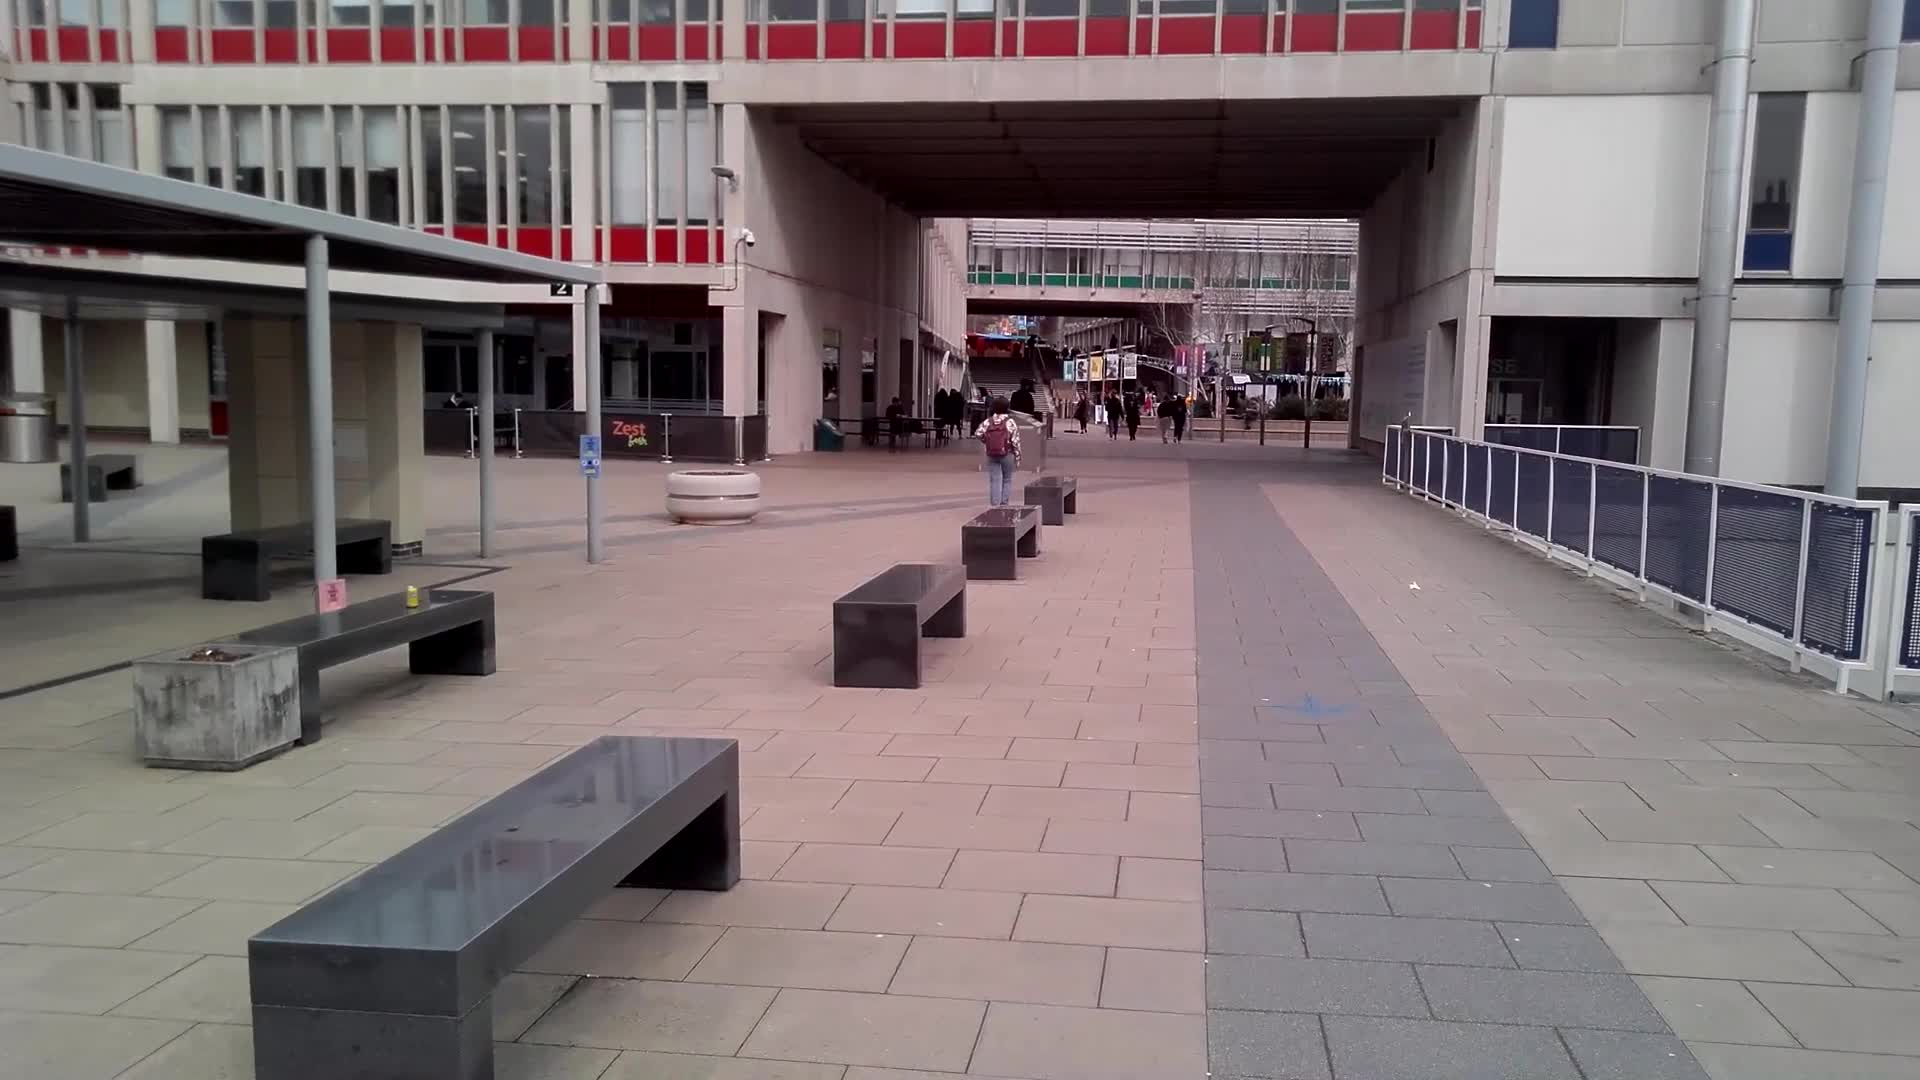Backpack: (984, 421, 1018, 466)
Bench: (250, 737, 744, 1080), (140, 590, 501, 730), (836, 563, 968, 695), (201, 519, 397, 602), (961, 509, 1046, 587), (1026, 477, 1078, 527)
Person: (984, 395, 1021, 518)
